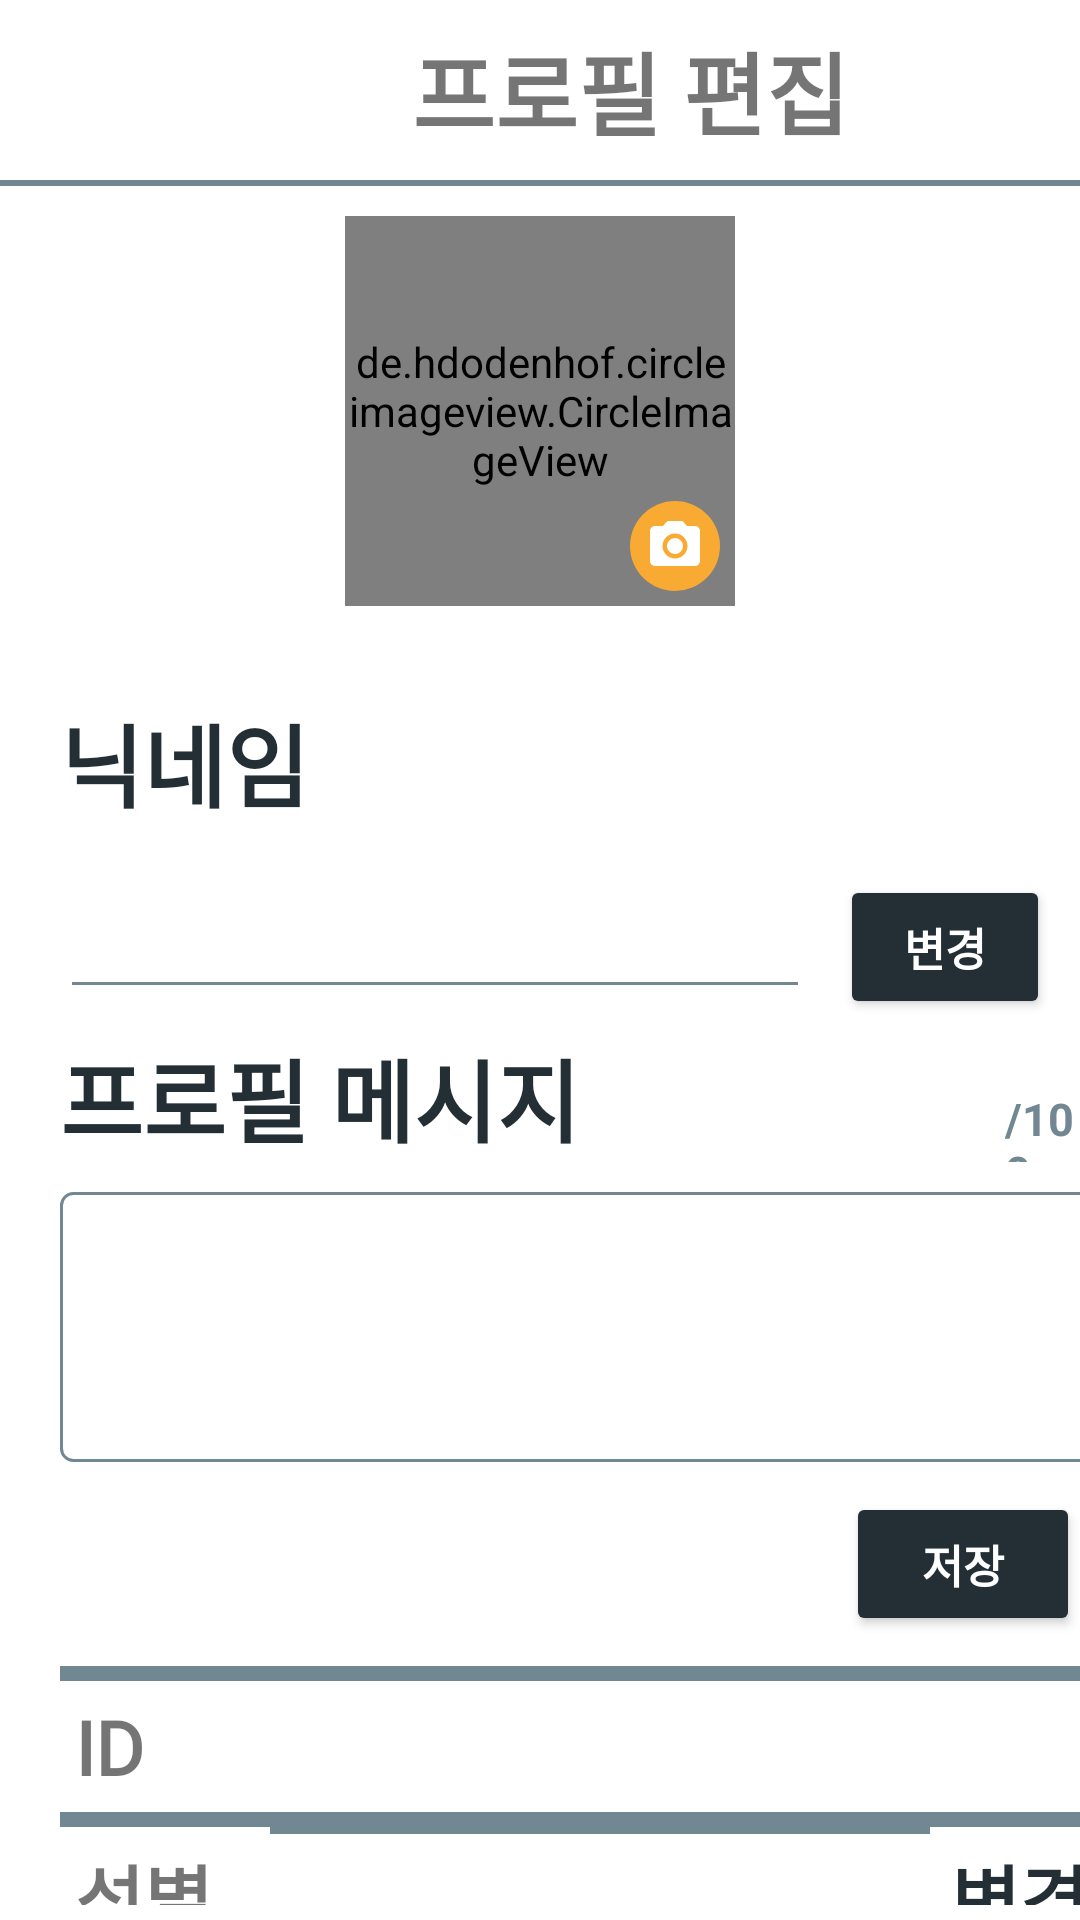

Screen size 1080px x 1920px. Icon name, then its box in pixels as bbox=[x1, y1, x2, y2]:
camera: bbox=[650, 521, 700, 566]
